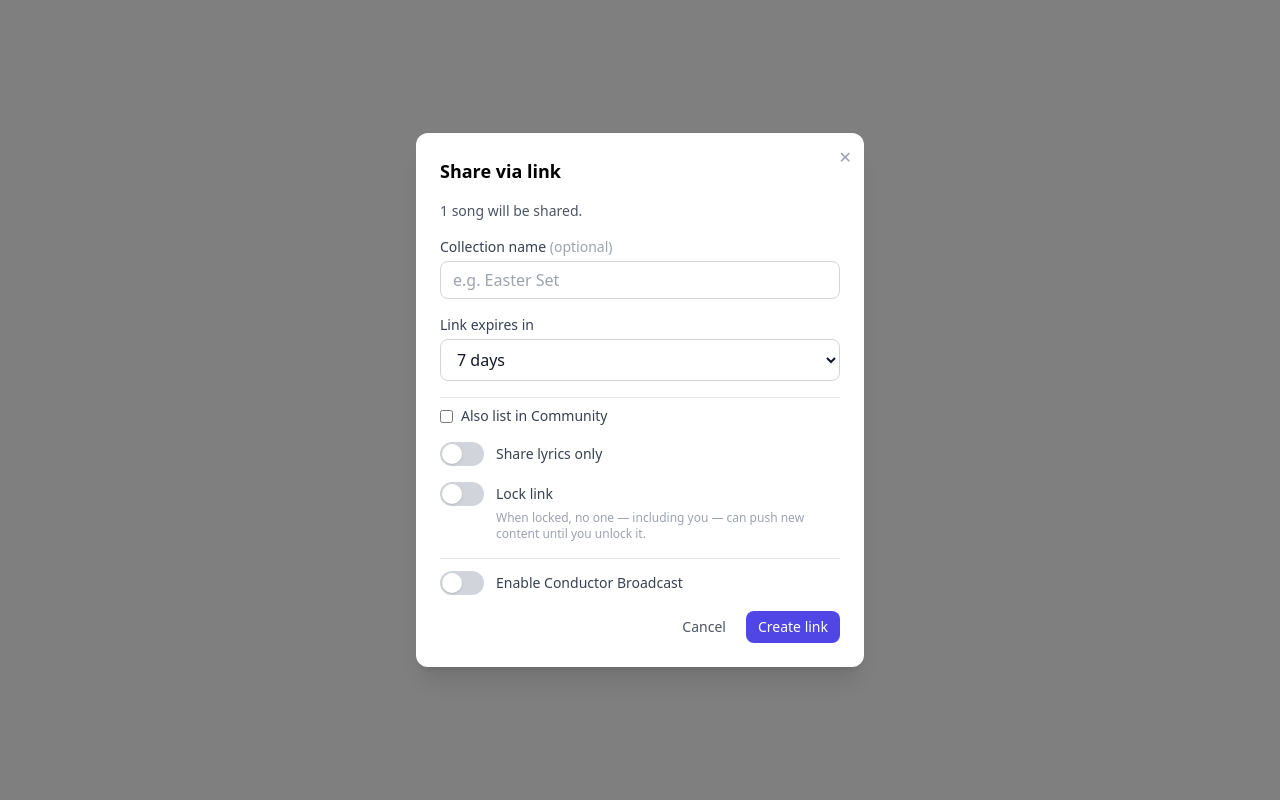
ShareModal › shows error message and Retry button on upload failure
Click the button "Create link". click: (793, 627)
box: [746, 611, 840, 643]
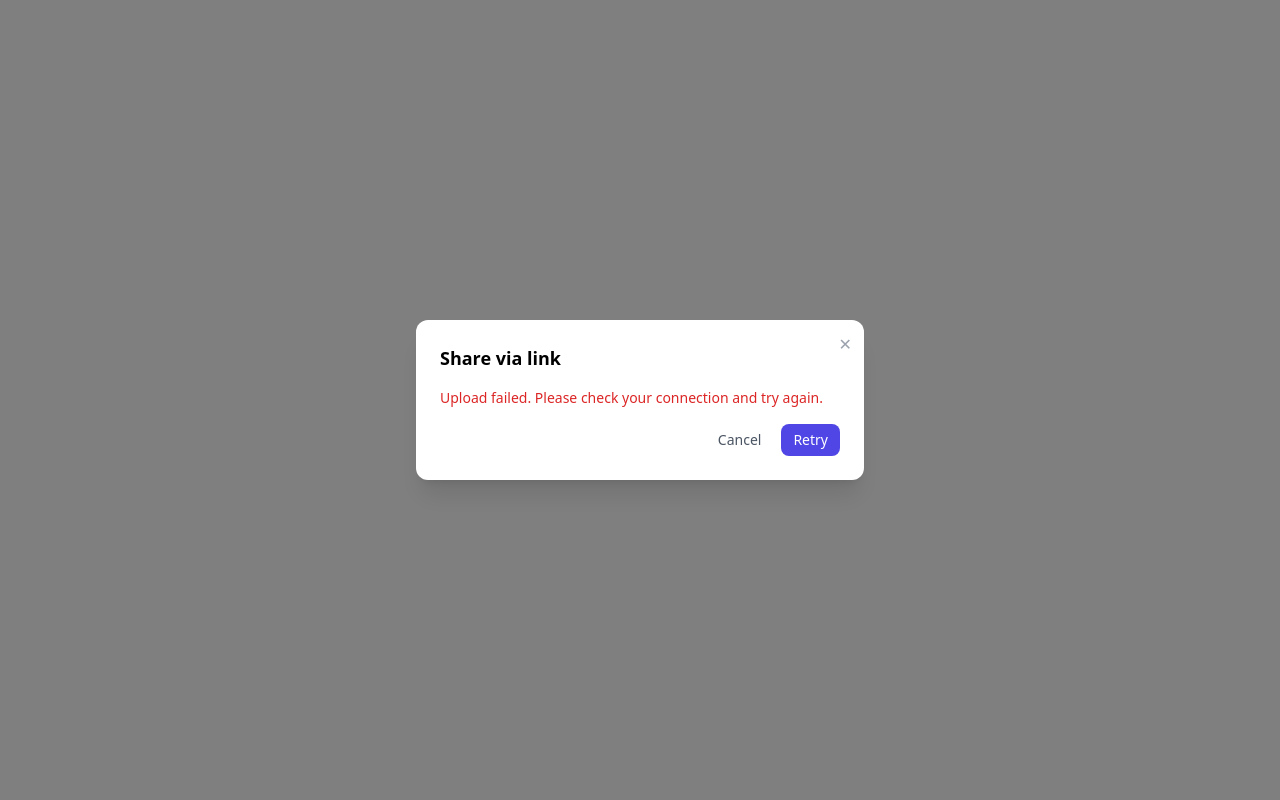
Expected: the button "Retry" is shown, [781, 424, 840, 456]
Expected: the text "Upload failed. Please check your connection and try again." is shown, [440, 388, 840, 408]
